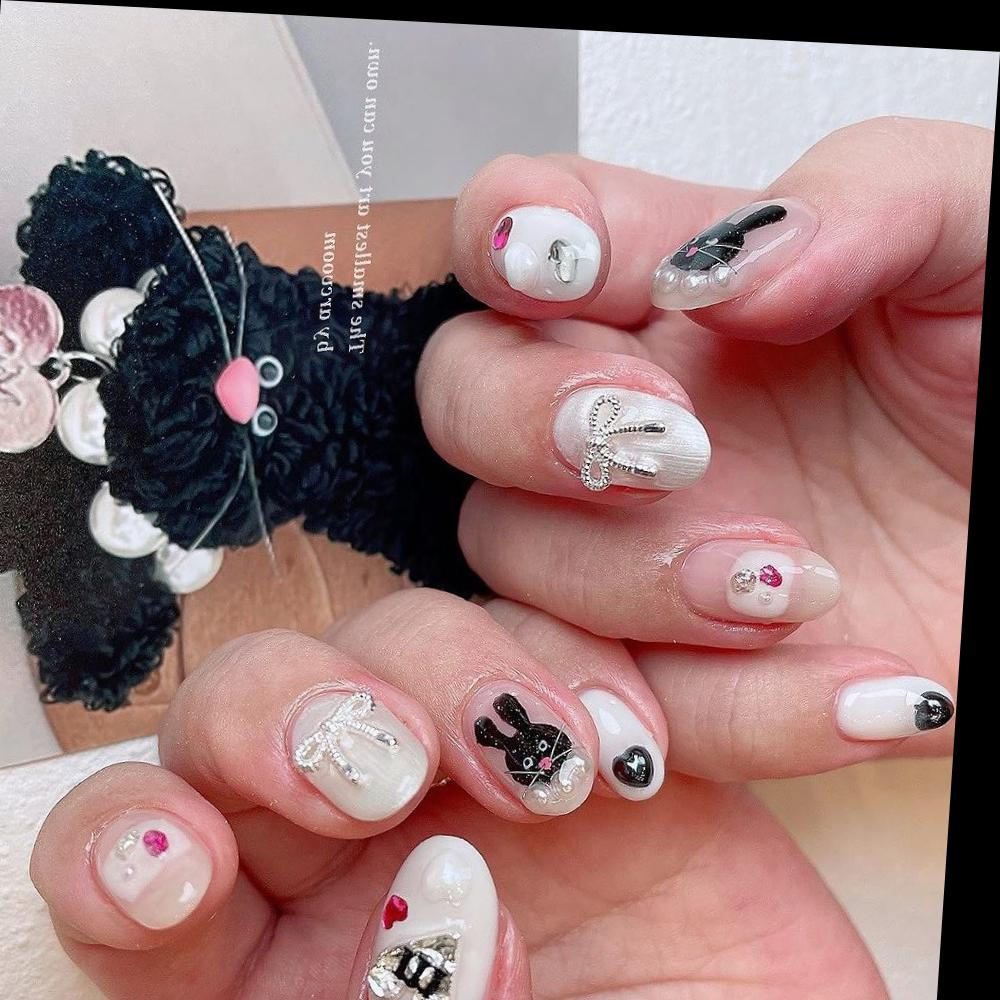nail: (648, 191, 822, 320), (363, 835, 499, 1000), (292, 688, 428, 822), (553, 386, 710, 491), (468, 690, 592, 814), (678, 540, 837, 624), (96, 812, 210, 929), (490, 205, 600, 302), (832, 672, 958, 748), (580, 689, 662, 800)
